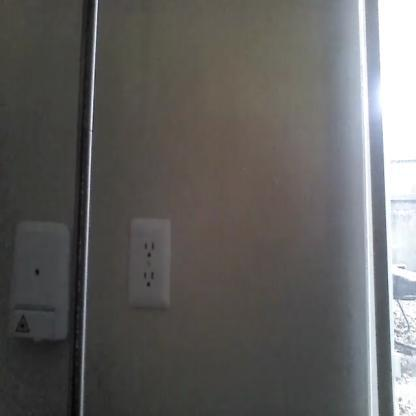OUTLET: (130, 218, 169, 306)
